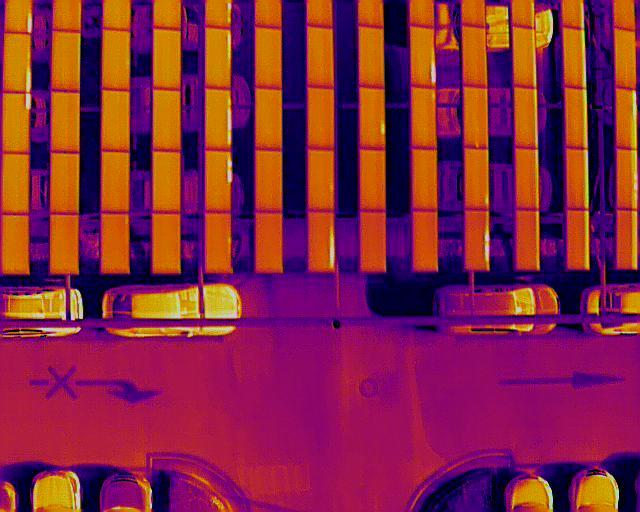Cell: (360, 84, 386, 151)
No-Anomaly: (100, 151, 130, 214), (102, 27, 131, 91), (254, 149, 282, 215), (51, 152, 80, 215), (101, 212, 130, 274), (153, 151, 181, 214), (2, 153, 30, 216), (102, 90, 130, 152), (51, 213, 79, 275), (154, 88, 181, 152), (52, 31, 80, 92), (51, 92, 79, 153), (359, 209, 386, 272), (154, 27, 181, 90), (464, 147, 490, 212), (308, 148, 334, 213), (255, 88, 282, 150), (3, 214, 30, 276), (256, 212, 283, 273), (411, 149, 437, 212), (308, 25, 334, 88), (462, 23, 487, 88), (308, 85, 333, 150), (154, 212, 181, 272), (411, 212, 438, 272), (256, 28, 282, 90), (205, 211, 231, 273), (206, 26, 231, 90), (411, 86, 436, 150), (514, 209, 540, 270), (564, 85, 588, 150), (514, 85, 538, 150), (512, 24, 536, 89), (359, 25, 384, 86), (361, 151, 386, 210), (515, 149, 539, 210), (465, 86, 488, 149), (563, 25, 586, 88), (567, 148, 589, 209), (615, 210, 637, 270), (614, 29, 636, 88), (568, 212, 590, 269), (617, 148, 637, 209)
Unclassified: (204, 151, 232, 214), (2, 94, 31, 154), (204, 88, 231, 151), (4, 32, 31, 93), (465, 208, 490, 272), (411, 25, 436, 87), (310, 211, 335, 271), (615, 88, 637, 148)
